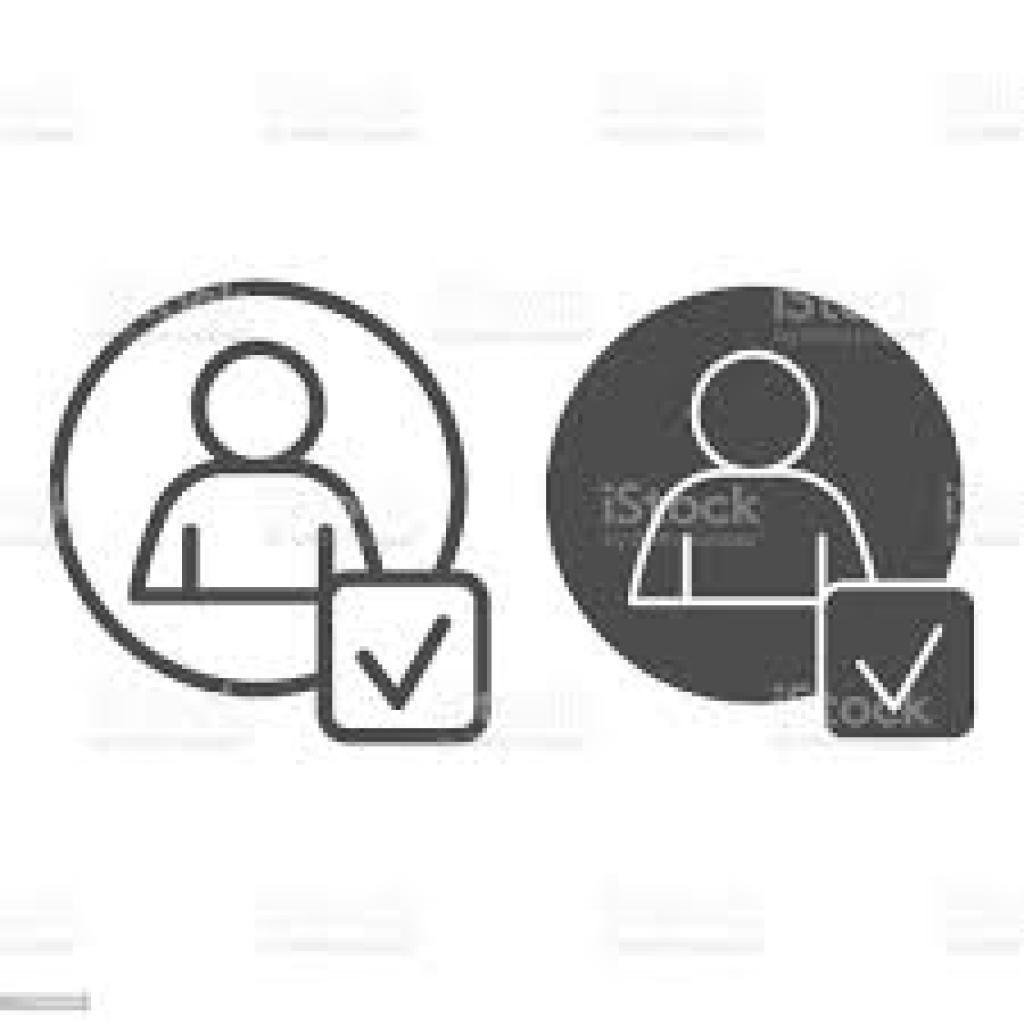checkbox: (323, 578, 491, 742), (823, 585, 979, 742)
